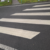zebra: (1, 5, 50, 39)
